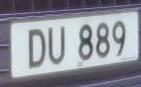8: (76, 20, 96, 67), (94, 19, 113, 63)
9: (111, 17, 129, 61)
D: (25, 25, 48, 72)
U: (46, 23, 69, 69)
